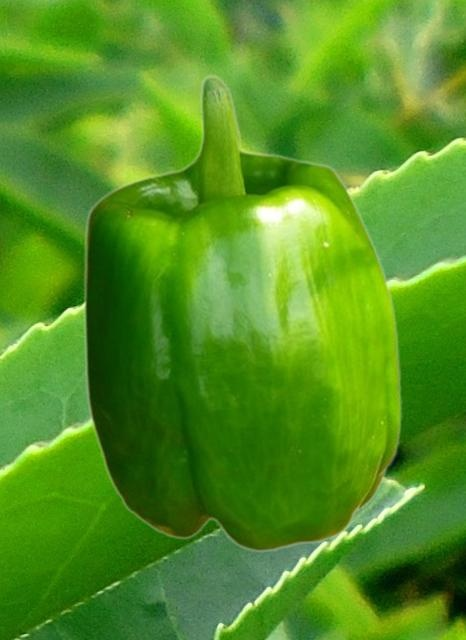bell_pepper: (82, 74, 401, 552)
